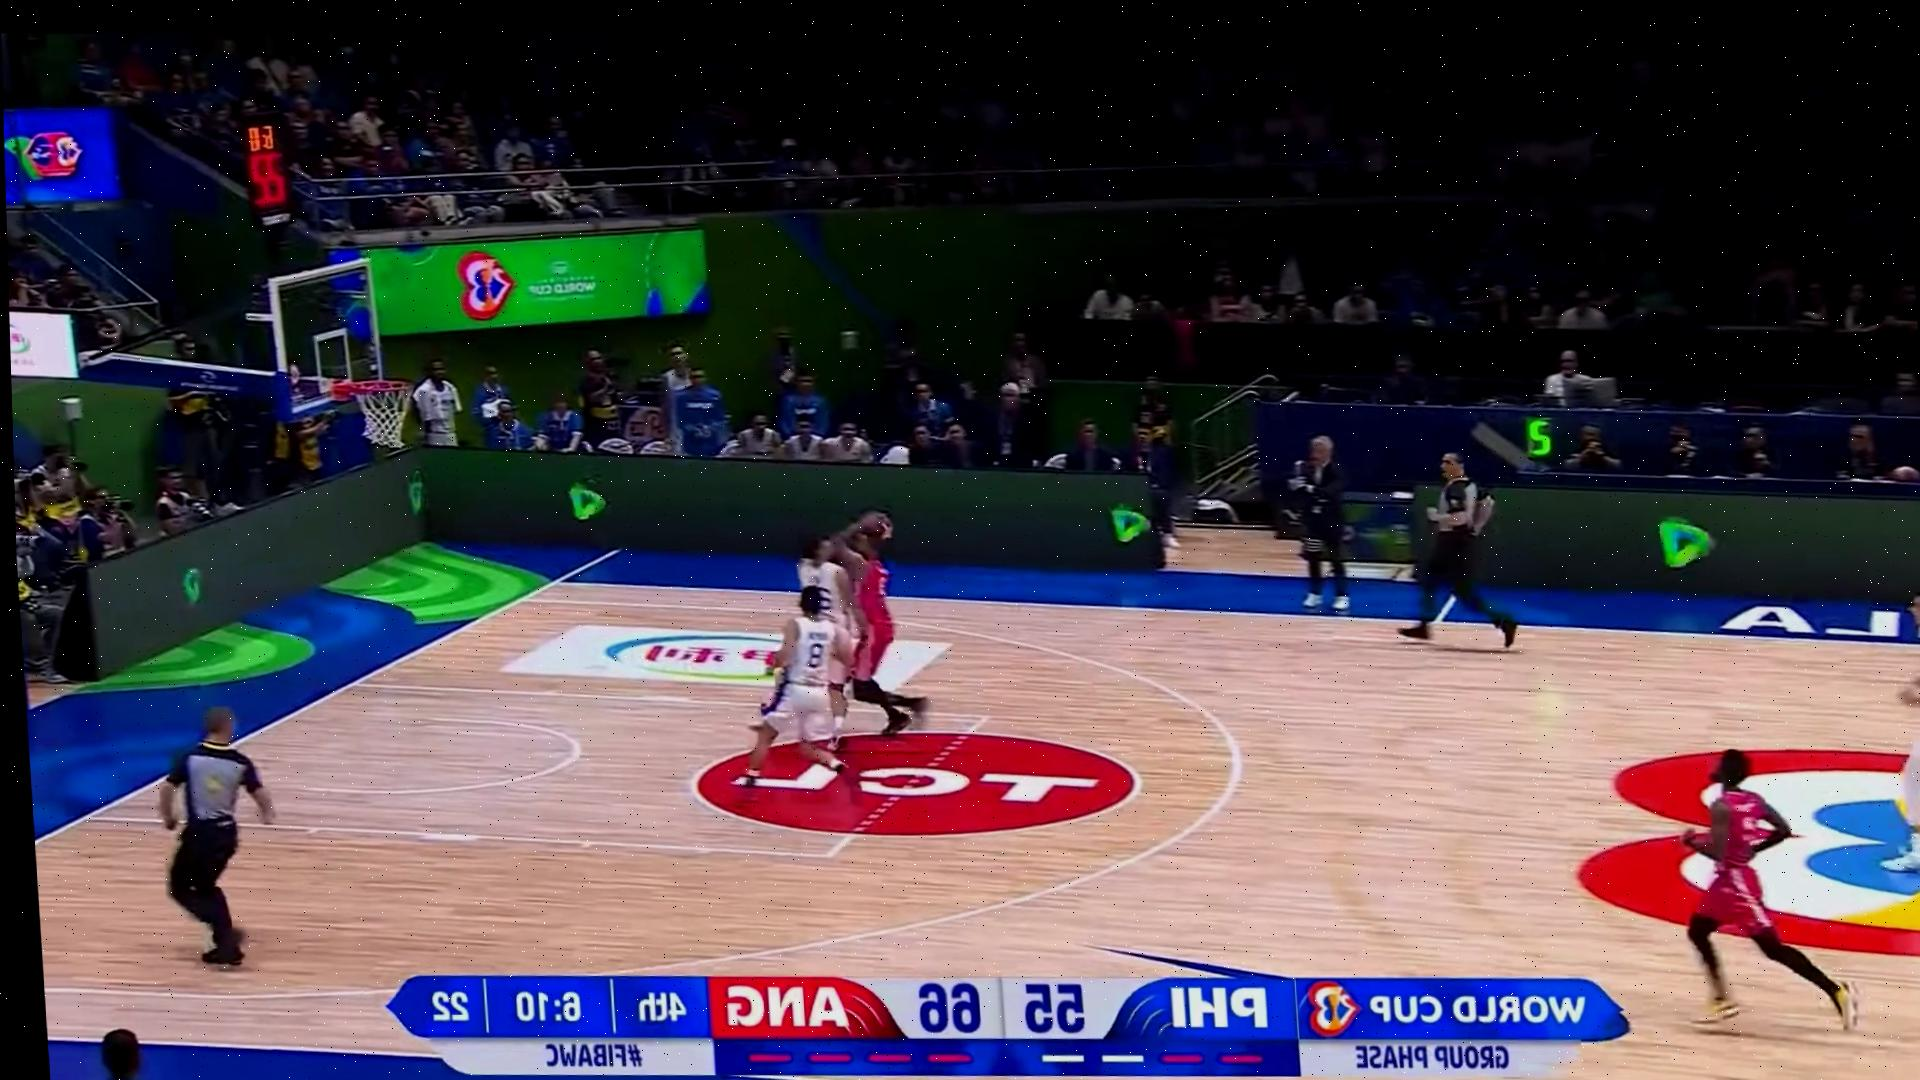no_foul: (695, 481, 947, 799)
